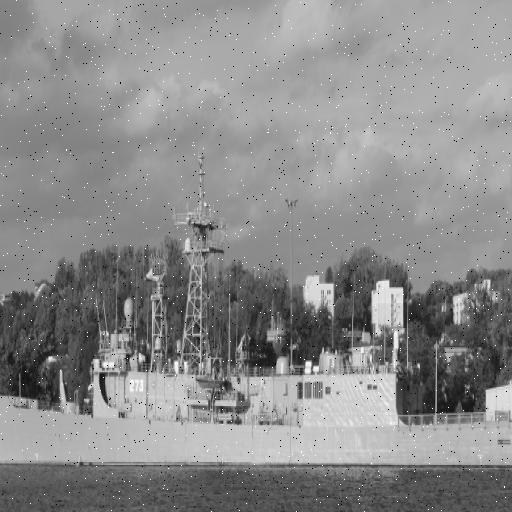Fragata: (1, 138, 512, 479)
